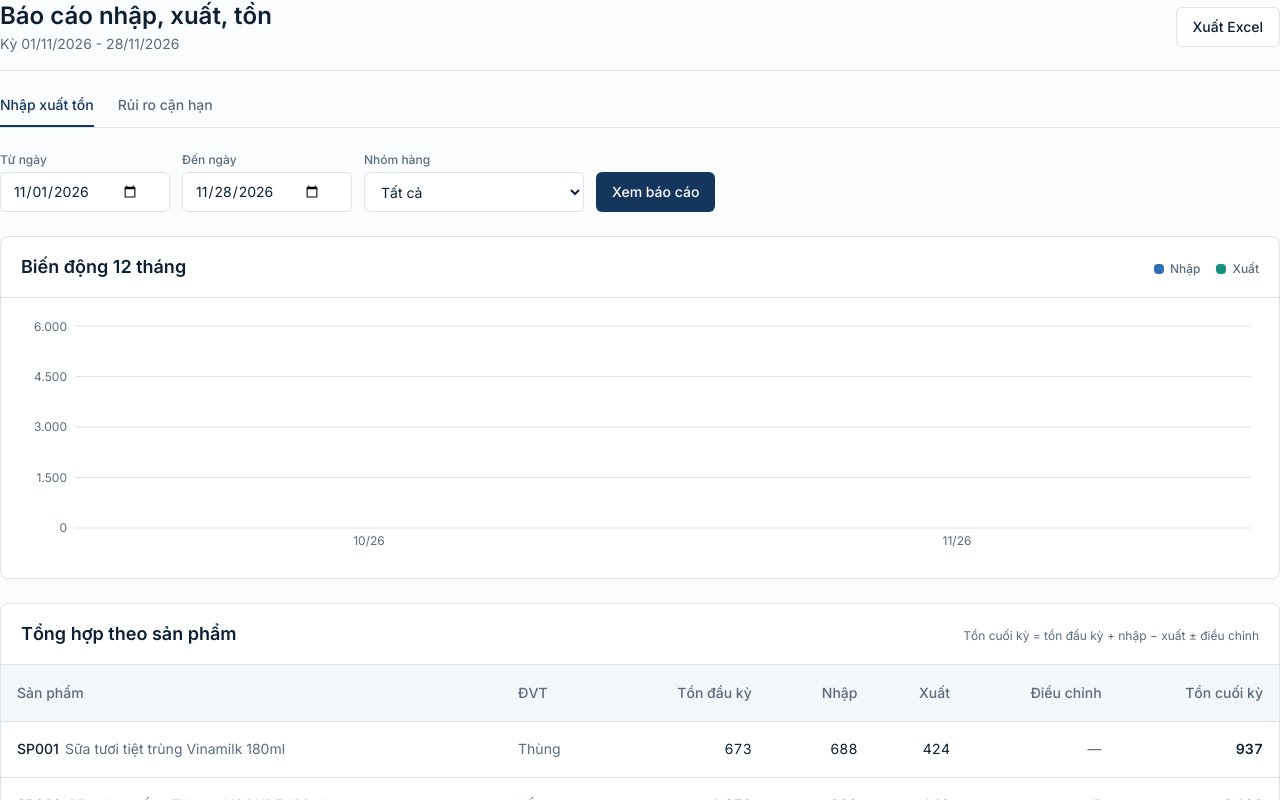
Test: ReportsPage (T-016 AC8) › chuyển sang tab Rủi ro cận hạn hiển thị tách số liệu dự báo/tồn dư/thực tế và thông báo thiếu dữ liệu thực tế
Click the tab "Rủi ro cận hạn" at (165, 111), box [118,95,213,127]
(page scrolled)
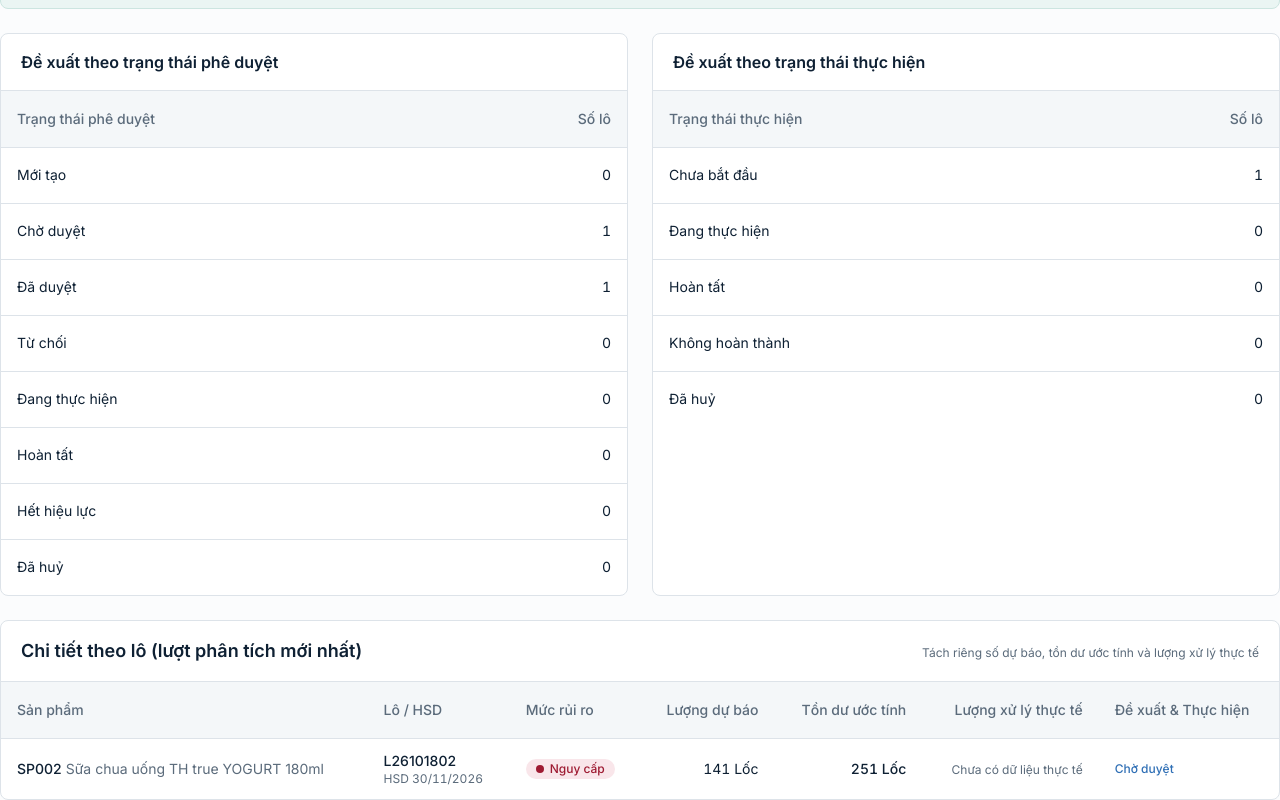
Result: the text "L26101802" is shown at [384,752,456,768]
Result: the text "141 Lốc" is shown at [640,738,774,798]
Result: the text "251 Lốc" is shown at [774,738,922,798]
